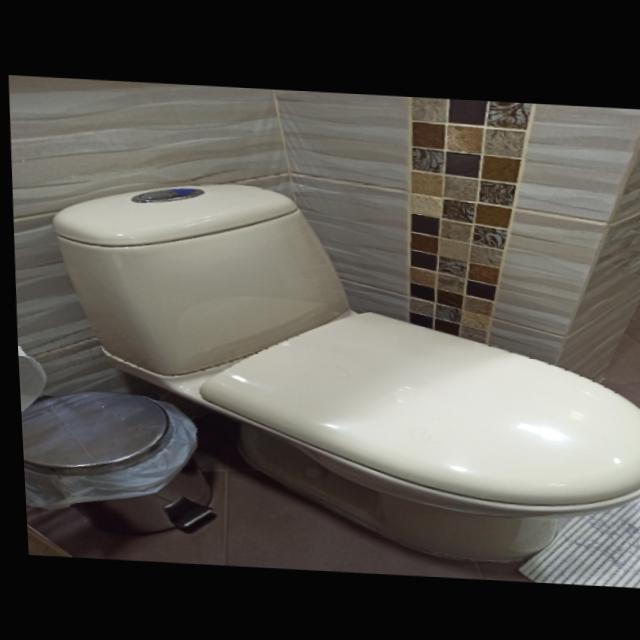toilet: (41, 172, 640, 567)
